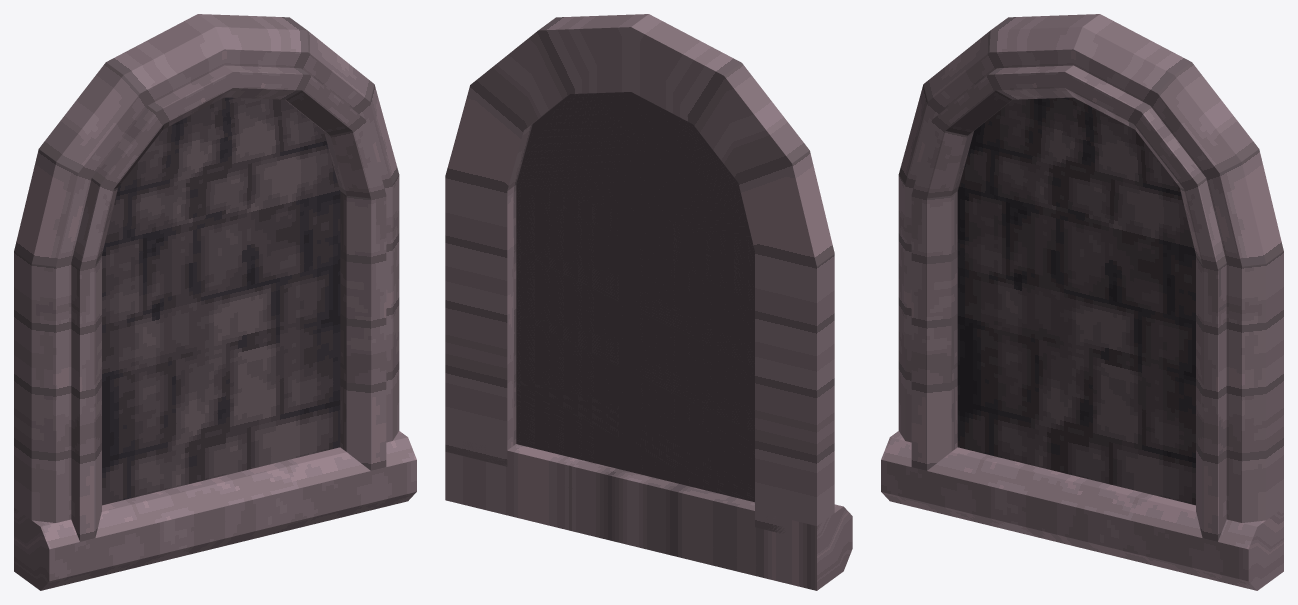
The model's file is wandnische_rund_gang_a.glb.
3 renders of one model, left to right at view 1: azimuth 30°, elevation 25°; view 2: azimuth 150°, elevation 25°; view 3: azimuth 330°, elevation 25°, orthographic.
Parts seen in each view (by area): view 1: platte, gewaende, sohlbank; view 2: platte, gewaende, sohlbank; view 3: platte, gewaende, sohlbank.
Boxes of the visible parts, box(x1,y1,x2,y2) form: platte: box(102, 97, 340, 505); gewaende: box(14, 14, 399, 541); sohlbank: box(14, 431, 416, 590); platte: box(516, 92, 754, 502); gewaende: box(445, 14, 834, 533); sohlbank: box(445, 438, 852, 590); platte: box(957, 97, 1195, 505); gewaende: box(898, 14, 1283, 541); sohlbank: box(881, 431, 1283, 590).
Bounding box in the file's own units: 1.5 × 2 × 0.25.
Materials: 1 (1 with a texture image).
